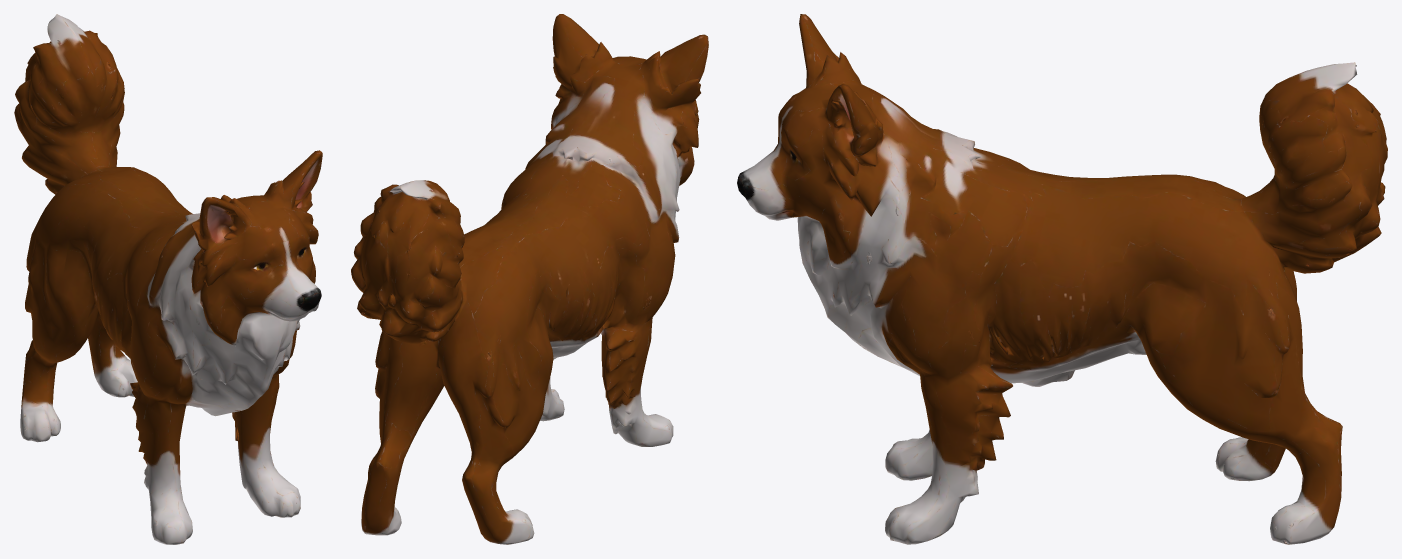
File: detail_4.glb
3 views of the same model, side by side, from view 1: azimuth 30°, elevation 25°; view 2: azimuth 150°, elevation 25°; view 3: azimuth 270°, elevation 25° (orthographic). The views are drawn at different scales.
Bounding box in the file's own units: 0.3329 × 0.7686 × 0.9922.
Materials: 1 (1 with a texture image).
